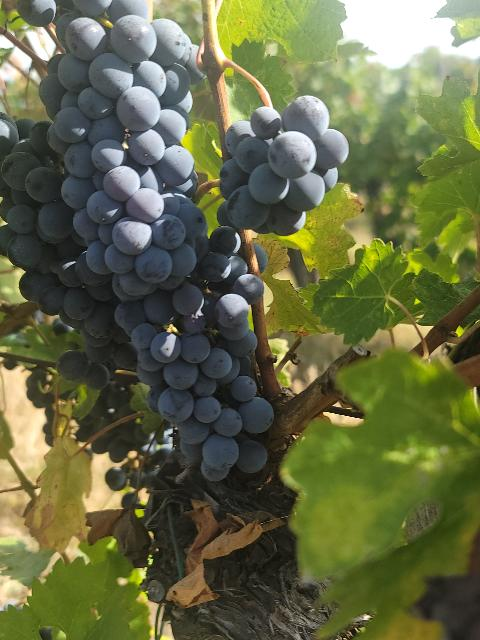grapes: (46, 0, 210, 289), (115, 225, 274, 481), (0, 114, 116, 346), (220, 96, 349, 235)
